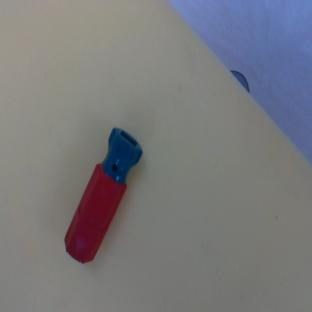part_2_good: (56, 126, 148, 267)
